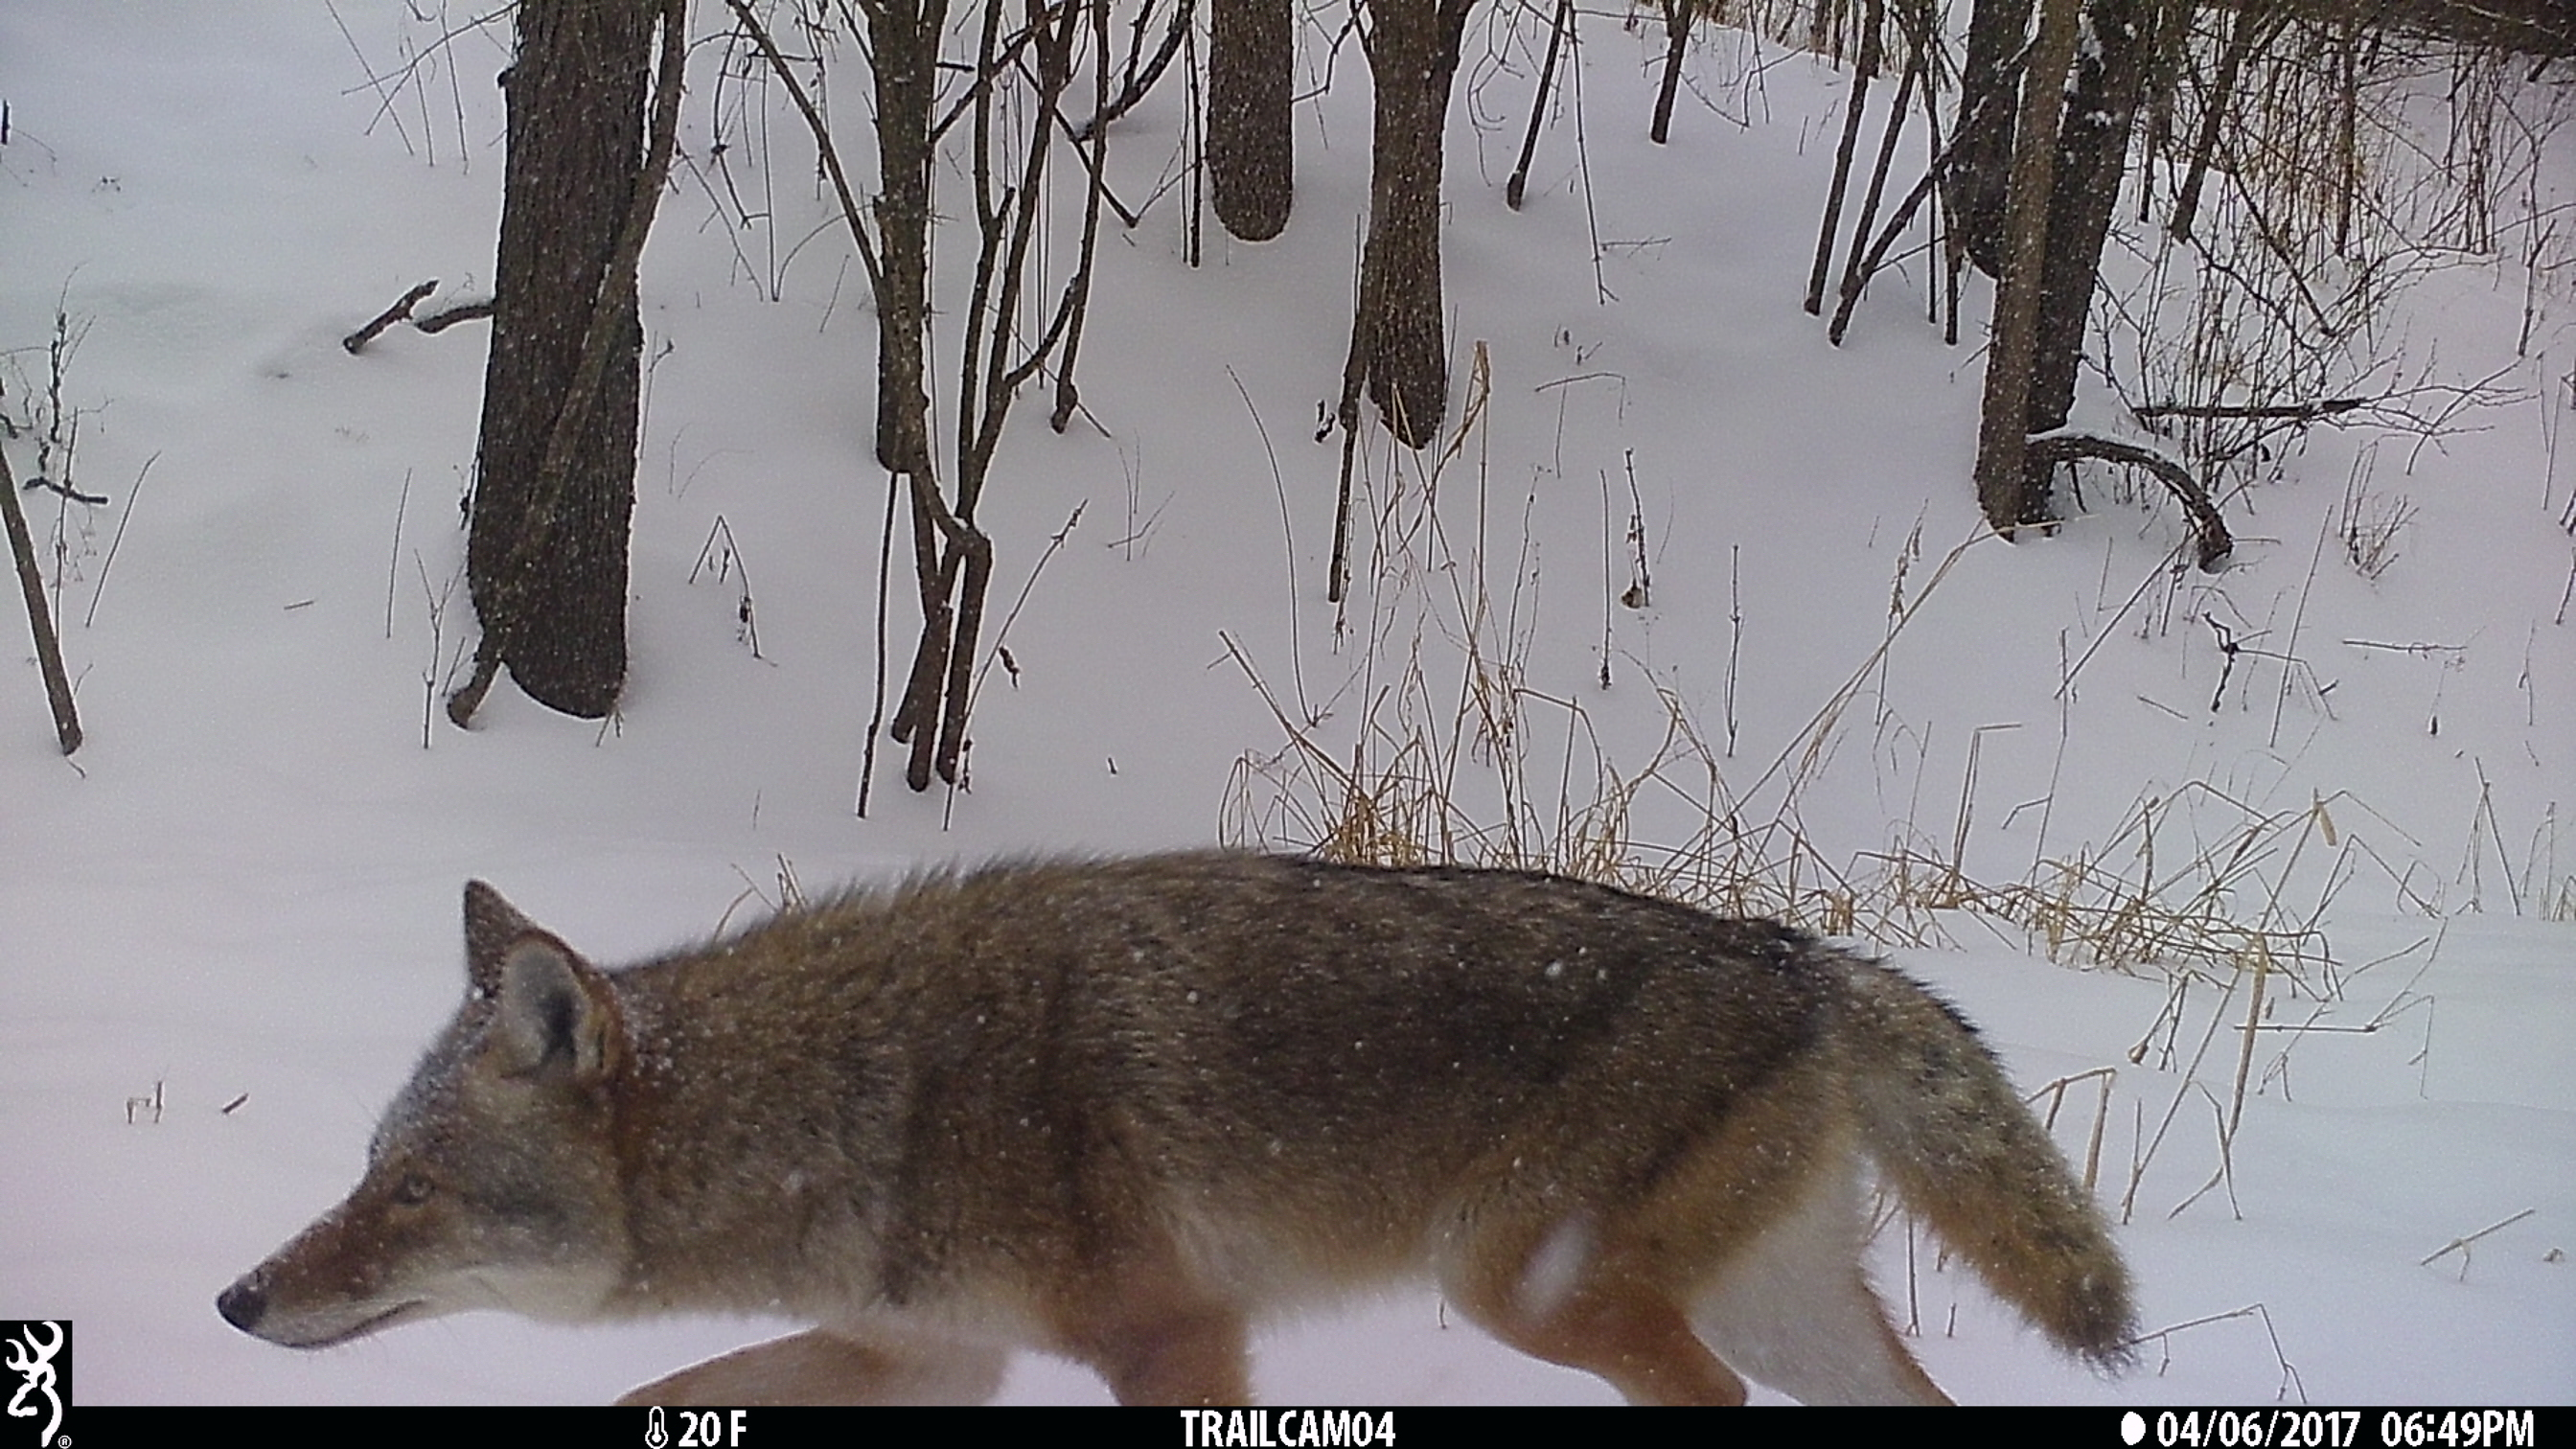Coyote: (209, 842, 2141, 1401)
